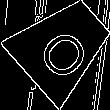O_NE: (30, 14, 95, 79)
